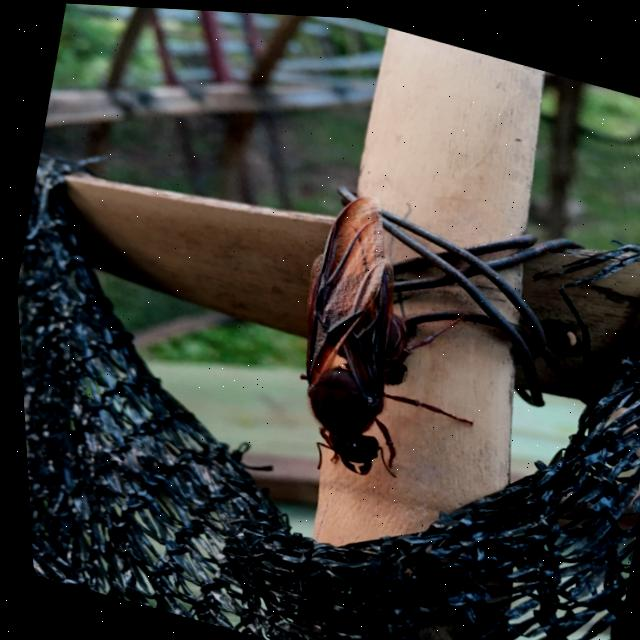Alive-Female-Alate: (259, 176, 516, 507)
